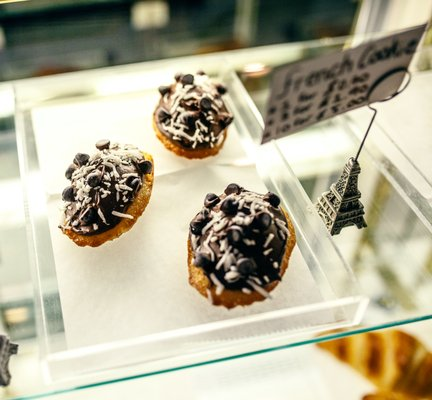salad: (187, 183, 297, 308), (58, 140, 155, 248), (152, 71, 235, 159)
